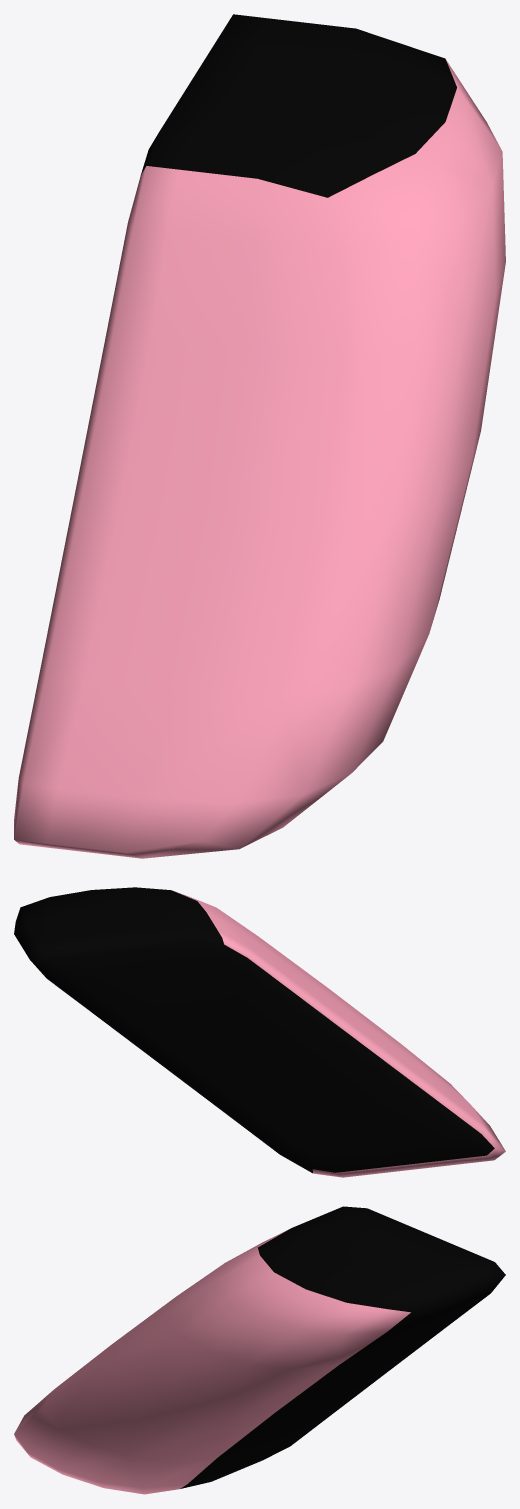
3 views of the same model, one above another, from view 1: azimuth 30°, elevation 25°; view 2: azimuth 150°, elevation 25°; view 3: azimuth 270°, elevation 25° (orthographic). The views are drawn at different scales.
Visible parts, largest first — view 1: Box1258; view 2: Box1258; view 3: Box1258.
Part boxes in pixels (x1,y1,x2,y2): Box1258: (14,14,505,858); Box1258: (14,887,505,1177); Box1258: (14,1206,505,1494).
Size of the model in its own units: 0.0519 by 0.0357 by 0.0527.
